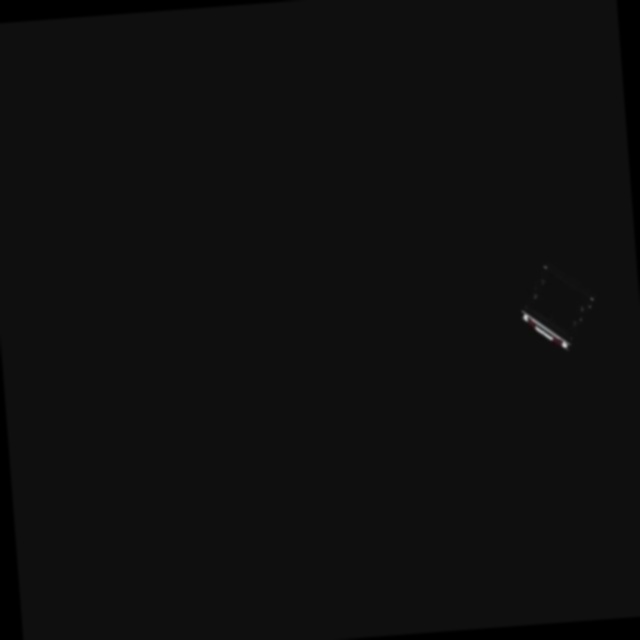medium_debris: (516, 256, 596, 360)
